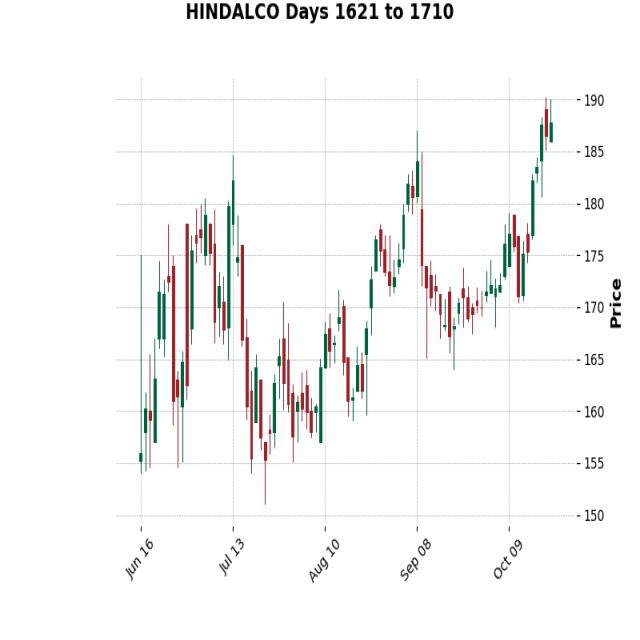Triple Bottom Reversal: (230, 290, 373, 486)
